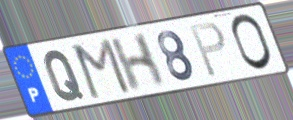8: (157, 29, 195, 82)
H: (108, 30, 169, 94)
M: (71, 36, 134, 102)
O: (229, 13, 275, 73)
P: (188, 20, 229, 80)
Q: (43, 49, 87, 104)
